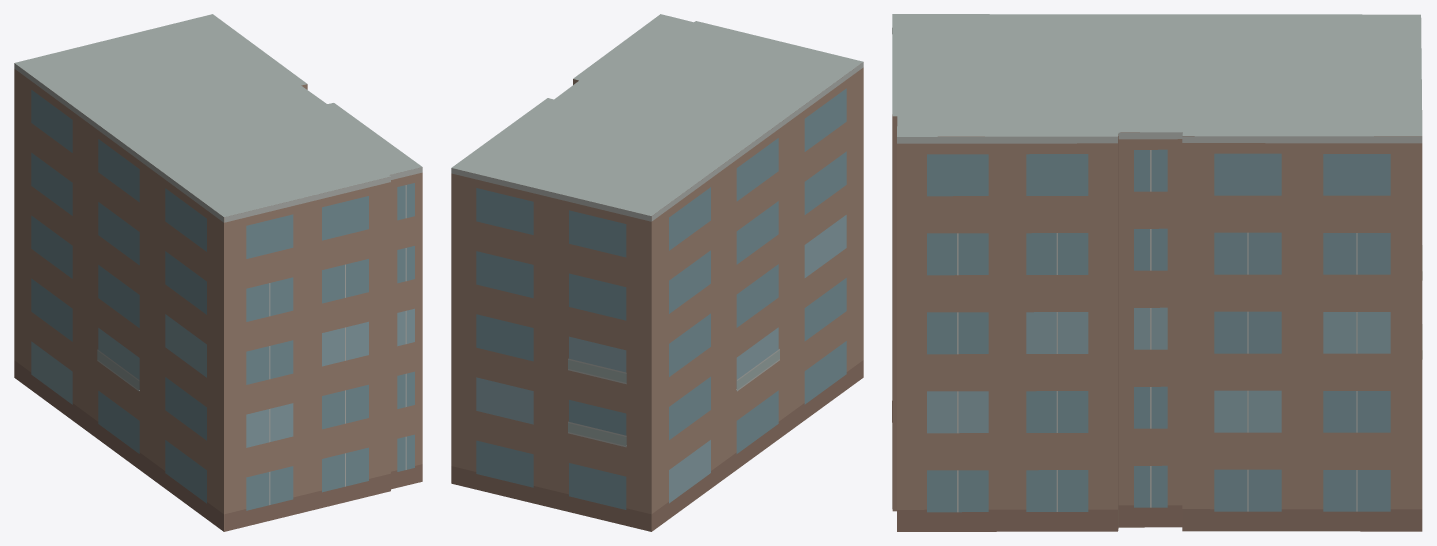
File: survey-upis-32822169.glb
3 views of the same model, side by side, from view 1: azimuth 30°, elevation 25°; view 2: azimuth 150°, elevation 25°; view 3: azimuth 270°, elevation 25° (orthographic). The views are drawn at different scales.
Parts seen in each view (by area): view 1: survey-upis-32822169.tmp; view 2: survey-upis-32822169.tmp; view 3: survey-upis-32822169.tmp.
Part boxes in pixels (x1,y1,x2,y2): survey-upis-32822169.tmp: [14, 14, 422, 531]; survey-upis-32822169.tmp: [451, 14, 863, 531]; survey-upis-32822169.tmp: [892, 14, 1422, 531].
Size of the model in its own units: 9.3 by 13.9 by 16.93.
